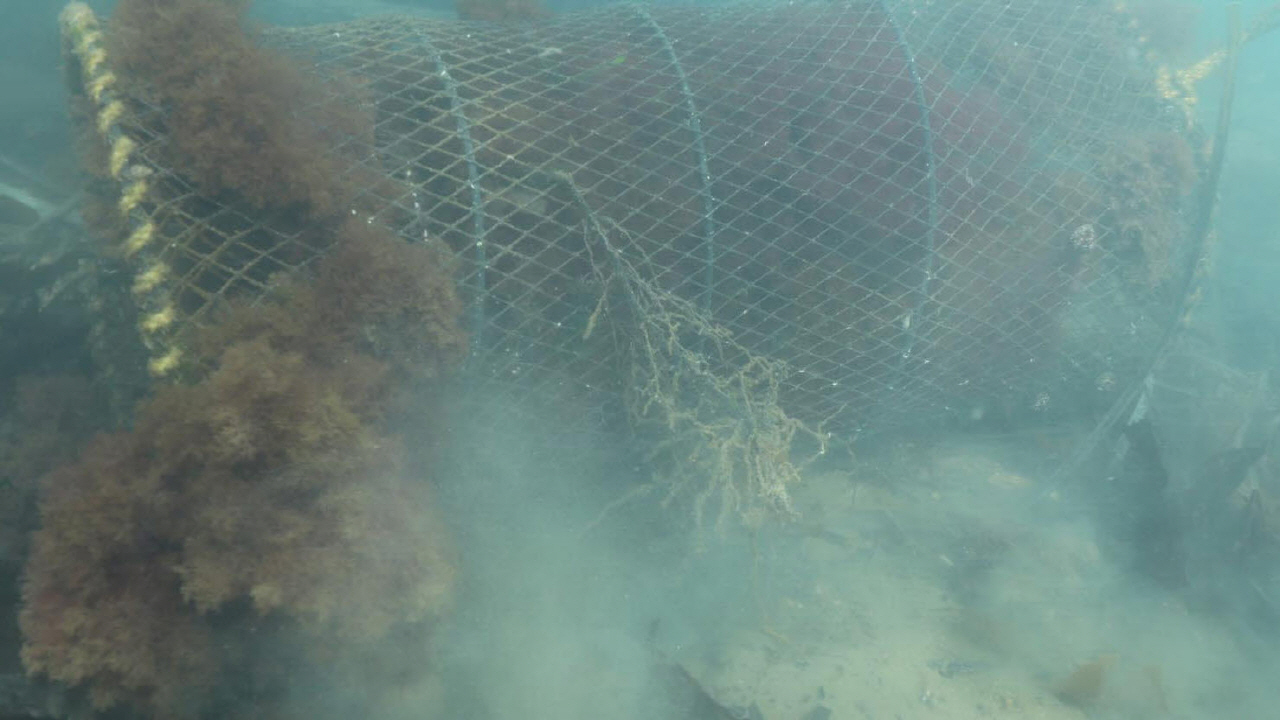bundle of ropes: (1158, 6, 1279, 107)
spring fish trap: (54, 0, 1223, 495)
